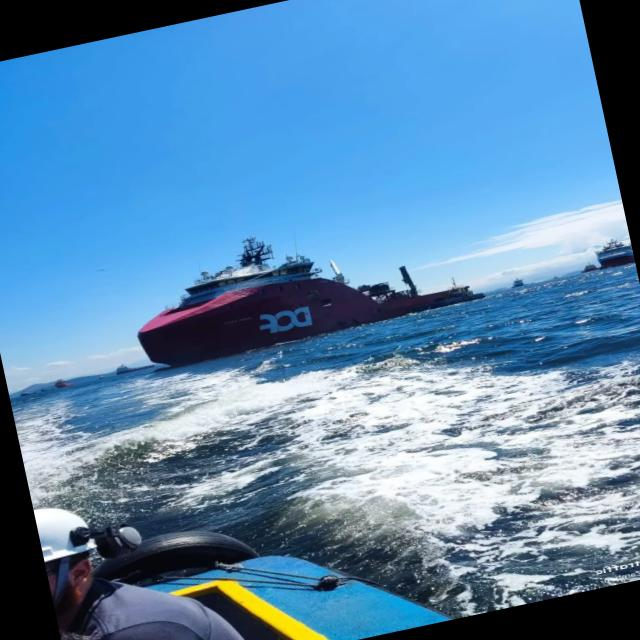Offshore: (138, 236, 482, 367)
